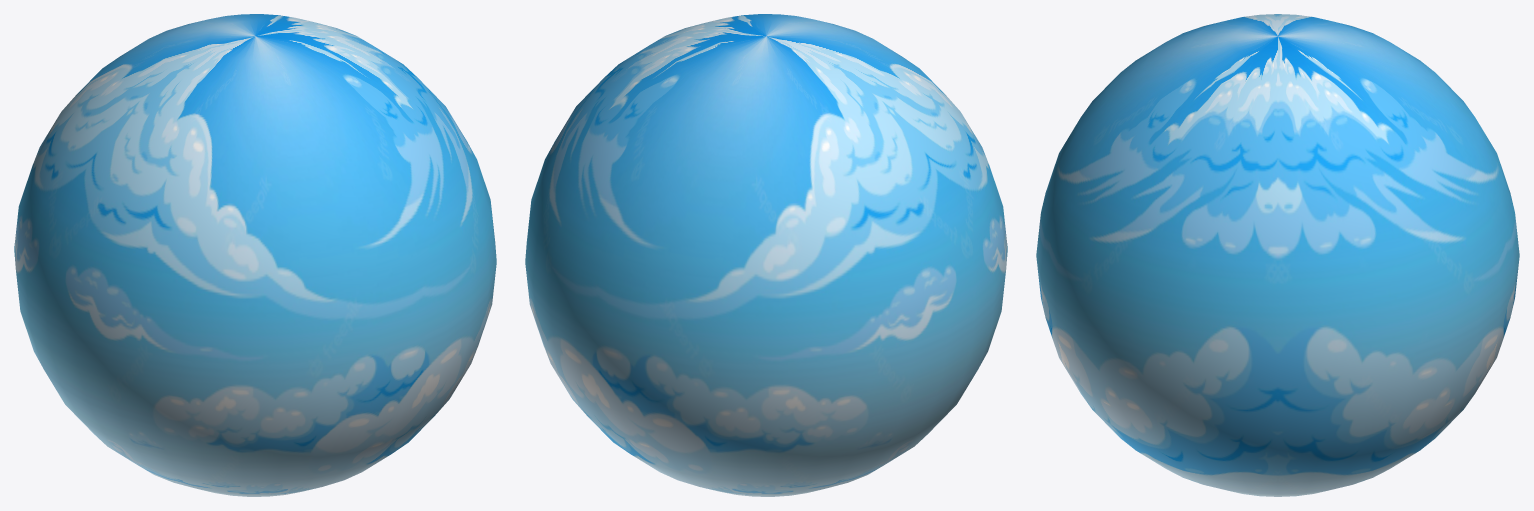
The model's file is gamescene.obj.
3 renders of one model, left to right at view 1: azimuth 30°, elevation 25°; view 2: azimuth 150°, elevation 25°; view 3: azimuth 270°, elevation 25°, orthographic.
Visible parts, largest first — view 1: Sphere001; view 2: Sphere001; view 3: Sphere001.
Boxes of the visible parts, bbox=[...] form: Sphere001: bbox=[14, 14, 496, 496]; Sphere001: bbox=[525, 14, 1007, 496]; Sphere001: bbox=[1036, 14, 1519, 496].
Bounding box in the file's own units: 517 × 517 × 517.
Materials: 5 (5 with a texture image).
